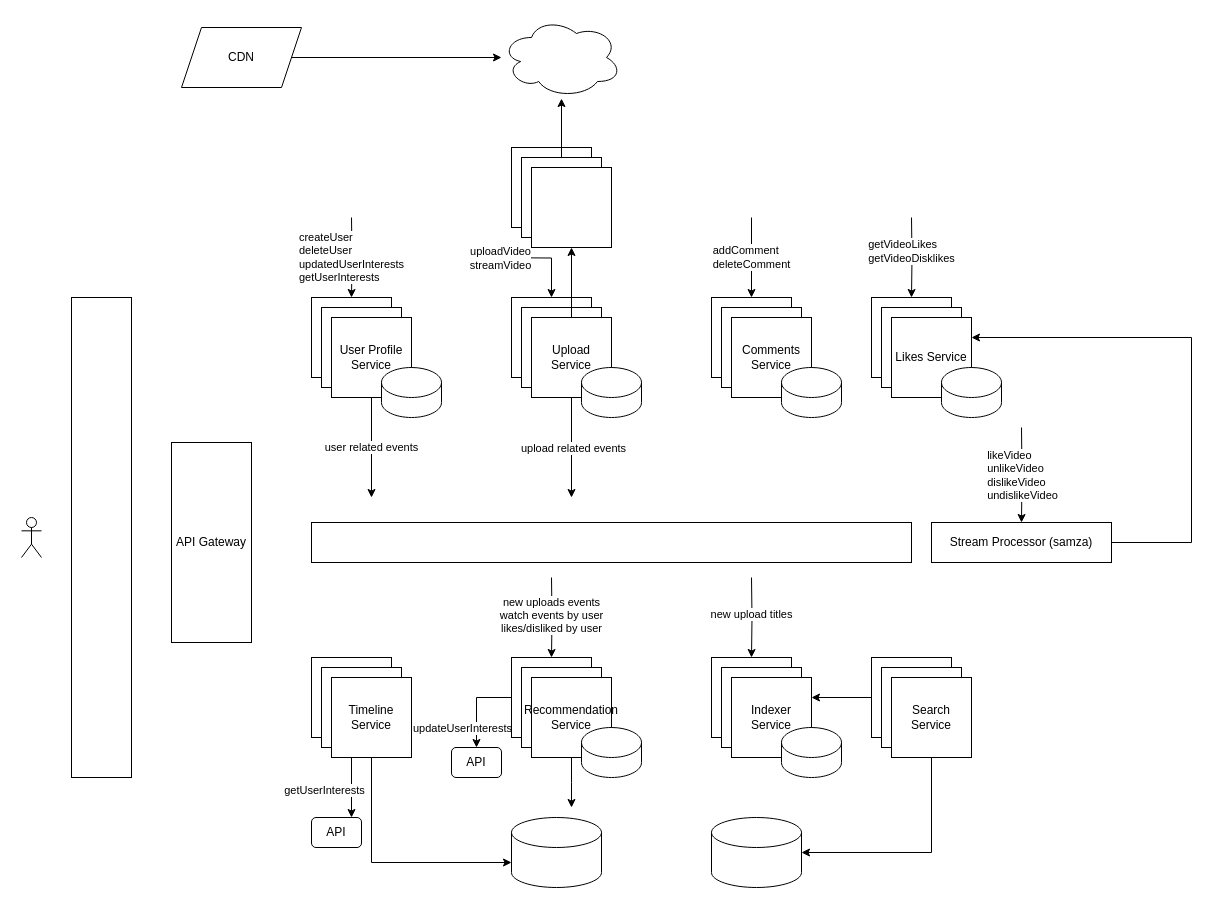
Some shapes in this 1217 by 905 pixel diagram are drawn without their labels. The centre of each missing label's shape, as x and y in pixels:
"Actor" goes at point (31, 537).
"compression service" goes at point (571, 207).
"Indexed video cache" goes at point (756, 852).
"Kafka Event Bus" goes at point (611, 542).
"Load Balancer" goes at point (101, 537).
"s3" goes at point (561, 57).
"Video vector cache" goes at point (556, 852).
